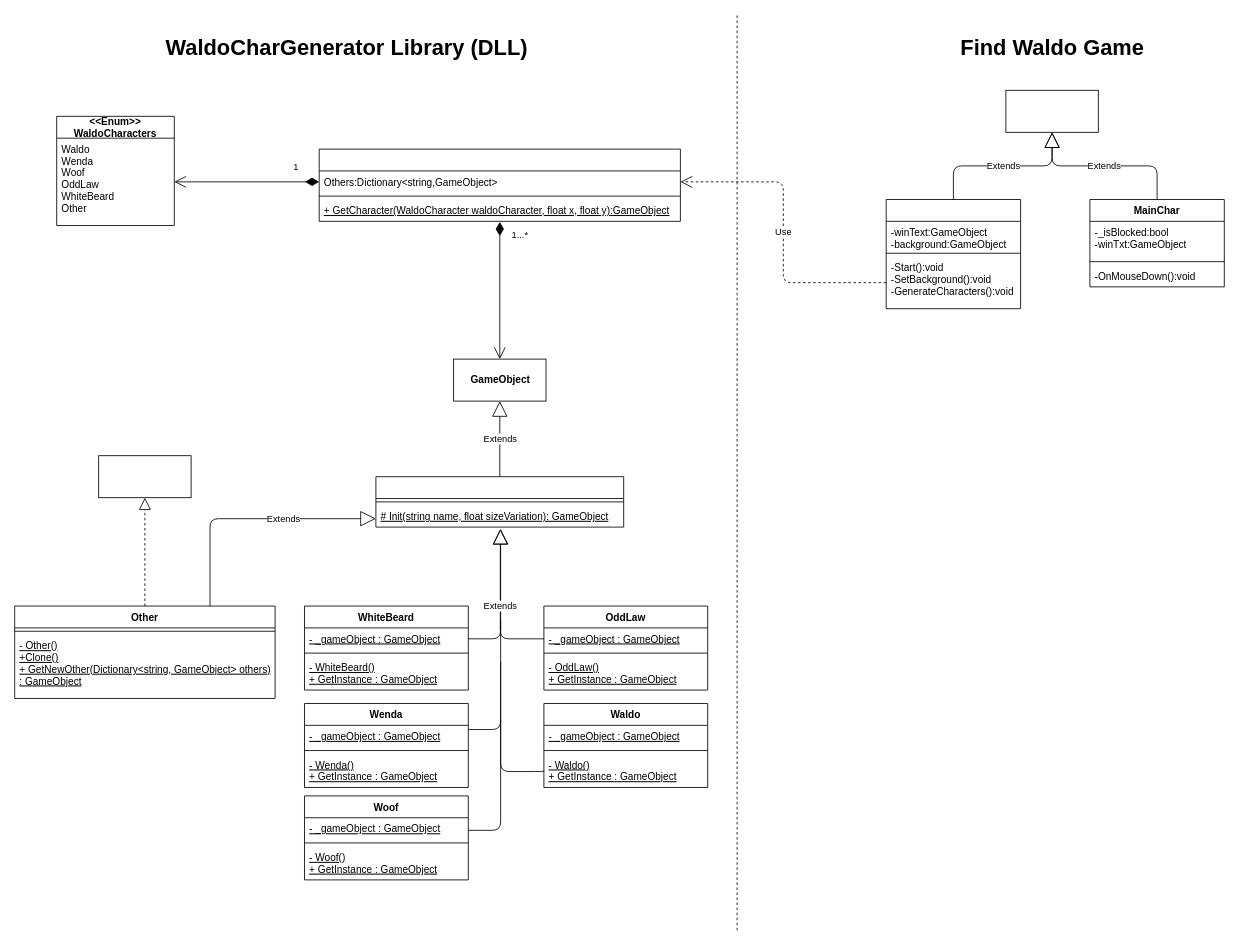
The diagram is 1239 pixels wide and 945 high, and some of its shapes have lost their labels. The shapes that lost their labels are listed below. From the top down, each one's box as (x1, y1, x2, y2) in pixels, then its label:
(1005, 89, 1098, 132): Monobehavior
(318, 148, 680, 221): WaldoCharGenerator
(885, 199, 1021, 309): WaldoController
(98, 455, 191, 498): «interface» ICloneable
(375, 476, 624, 527): Character
